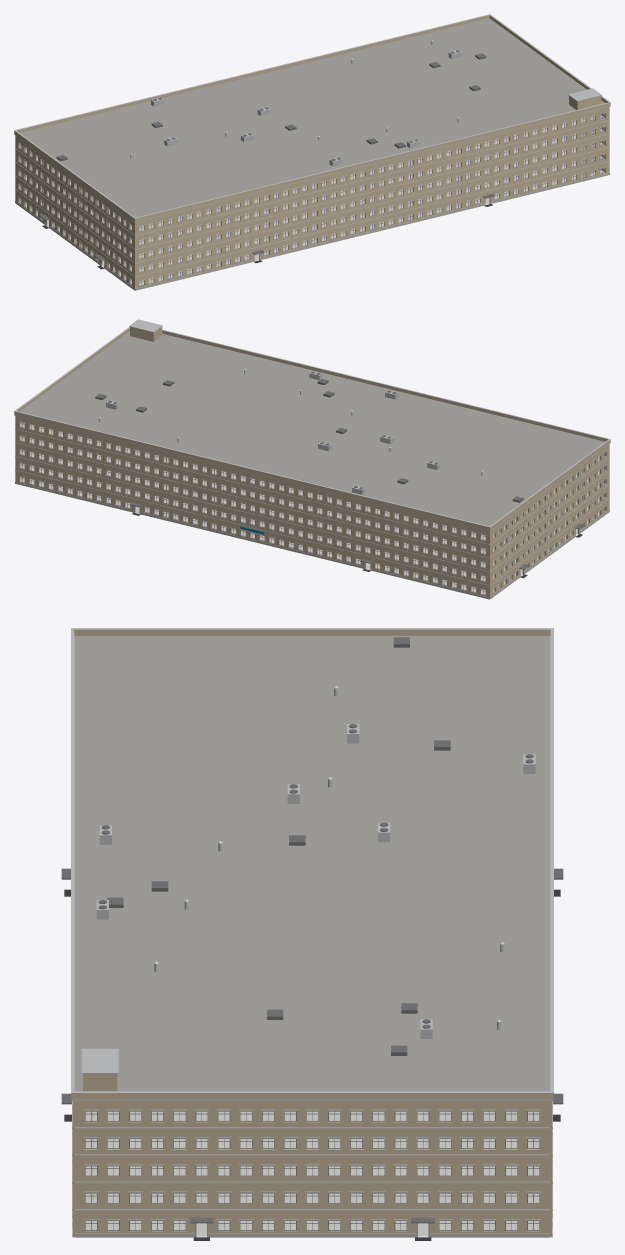
Rendered from SM_Bygg_Realfagbygget.fbx.
3 views of the same model, one above another, from view 1: azimuth 30°, elevation 25°; view 2: azimuth 150°, elevation 25°; view 3: azimuth 270°, elevation 25° (orthographic). The views are drawn at different scales.
Visible parts, largest first — view 1: SM_Bygg_Realfagbygget; view 2: SM_Bygg_Realfagbygget; view 3: SM_Bygg_Realfagbygget.
Boxes of the visible parts, x1,y1,x2,y2 form: SM_Bygg_Realfagbygget: [14, 14, 610, 290]; SM_Bygg_Realfagbygget: [14, 319, 610, 599]; SM_Bygg_Realfagbygget: [61, 628, 563, 1240].
Bounding box in the file's own units: 73.2 × 163 × 25.91.
